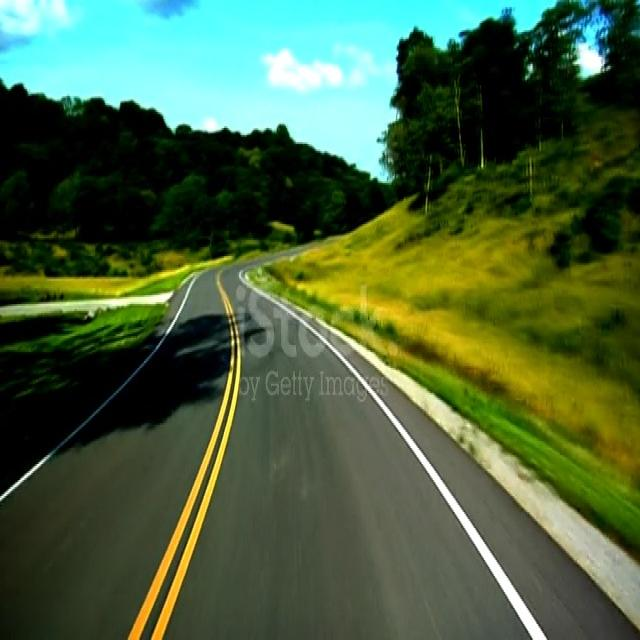lane: (274, 304, 545, 637), (0, 277, 199, 503), (128, 272, 240, 638), (129, 273, 241, 638)
road: (0, 261, 637, 636)
